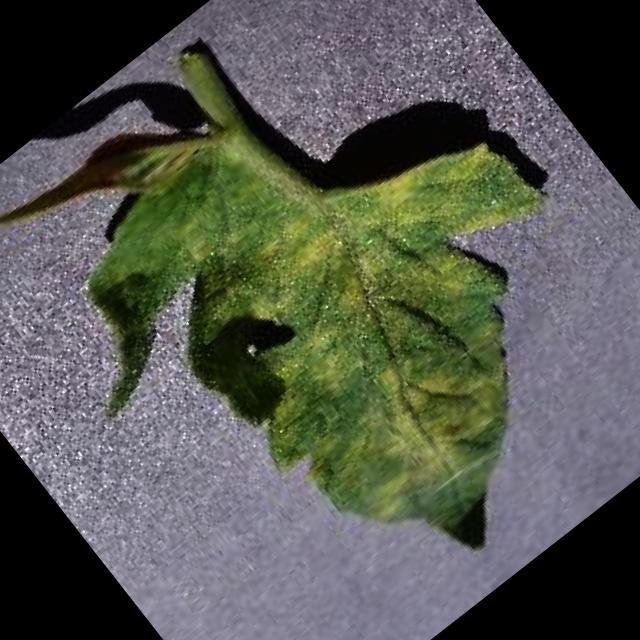Tomato mold leaf: (15, 1, 640, 640)
